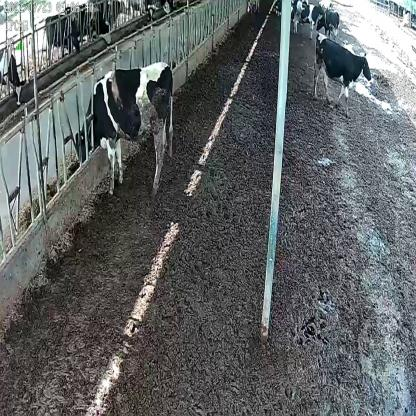cow: (74, 61, 174, 197), (312, 31, 372, 116), (291, 0, 323, 40), (317, 8, 340, 42)
